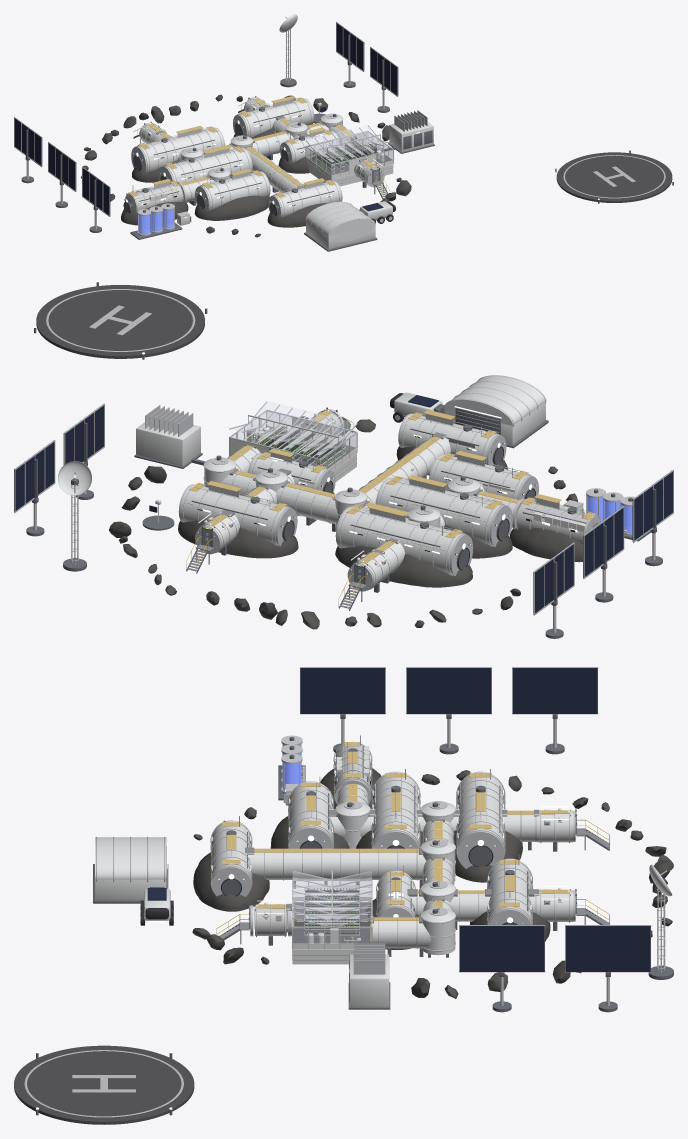
File: colony.glb
The picture shows the model from 3 angles, top to bottom: view 1: azimuth 30°, elevation 25°; view 2: azimuth 150°, elevation 25°; view 3: azimuth 270°, elevation 25°; orthographic projection. The views are drawn at different scales.
Parts seen in each view (by area): view 1: G_aterrizaje, C_invernadero, G_garaje, R_anillo, N_baterias, A_hab_2_techo, A_hab_1_techo, B_ciencia_techo, R_A_3, A_hab_3_techo, C_invernadero_int, E_taller_techo (+25 smaller); view 2: G_aterrizaje, C_invernadero, G_garaje, R_anillo, N_baterias, A_hab_1_techo, A_hab_2_techo, B_ciencia_techo, A_hab_3_techo, A_hab_1, N_solar_2, N_solar_1 (+32 smaller); view 3: G_aterrizaje, C_invernadero, G_garaje, N_solar_1, N_solar_4, N_solar_2, N_solar_5, N_solar_3, R_anillo, A_hab_1_techo, A_hab_2_techo, N_baterias (+26 smaller).
Part boxes in pixels (bbox=[...]): G_aterrizaje: bbox=[555, 149, 673, 203]; C_invernadero: bbox=[305, 125, 393, 186]; G_garaje: bbox=[304, 201, 377, 251]; R_anillo: bbox=[81, 94, 411, 237]; N_baterias: bbox=[381, 110, 434, 153]; A_hab_2_techo: bbox=[159, 145, 251, 178]; A_hab_1_techo: bbox=[132, 126, 224, 158]; B_ciencia_techo: bbox=[234, 96, 313, 126]; R_A_3: bbox=[194, 195, 269, 220]; A_hab_3_techo: bbox=[196, 169, 269, 197]; C_invernadero_int: bbox=[313, 139, 384, 173]; E_taller_techo: bbox=[269, 178, 341, 205]; G_aterrizaje: bbox=[34, 280, 207, 359]; C_invernadero: bbox=[229, 401, 357, 482]; G_garaje: bbox=[444, 375, 548, 448]; R_anillo: bbox=[109, 416, 577, 629]; N_baterias: bbox=[134, 405, 205, 468]; A_hab_1_techo: bbox=[337, 504, 471, 552]; A_hab_2_techo: bbox=[377, 475, 510, 523]; B_ciencia_techo: bbox=[180, 481, 295, 524]; A_hab_3_techo: bbox=[430, 450, 537, 492]; A_hab_1: bbox=[335, 524, 473, 576]; N_solar_2: bbox=[583, 506, 624, 602]; N_solar_1: bbox=[533, 542, 574, 638]; G_aterrizaje: bbox=[14, 1045, 194, 1124]; C_invernadero: bbox=[290, 870, 373, 964]; G_garaje: bbox=[93, 836, 168, 903]; N_solar_1: bbox=[512, 667, 598, 754]; N_solar_4: bbox=[565, 925, 651, 1012]; N_solar_2: bbox=[406, 667, 491, 754]; N_solar_5: bbox=[459, 925, 545, 1012]; N_solar_3: bbox=[300, 667, 385, 752]; R_anillo: bbox=[192, 770, 673, 998]; A_hab_1_techo: bbox=[459, 768, 502, 842]; A_hab_2_techo: bbox=[374, 768, 417, 842]; N_baterias: bbox=[348, 943, 390, 1009].
Size of the model in its own units: 84.4 by 12.32 by 62.2.
